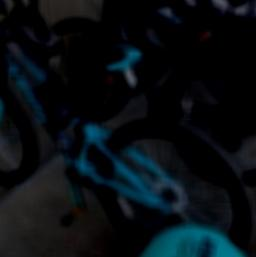algae: (138, 223, 256, 257)
